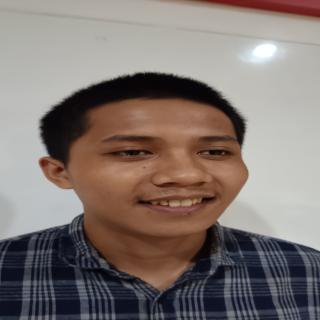Senang: (61, 94, 261, 240)
